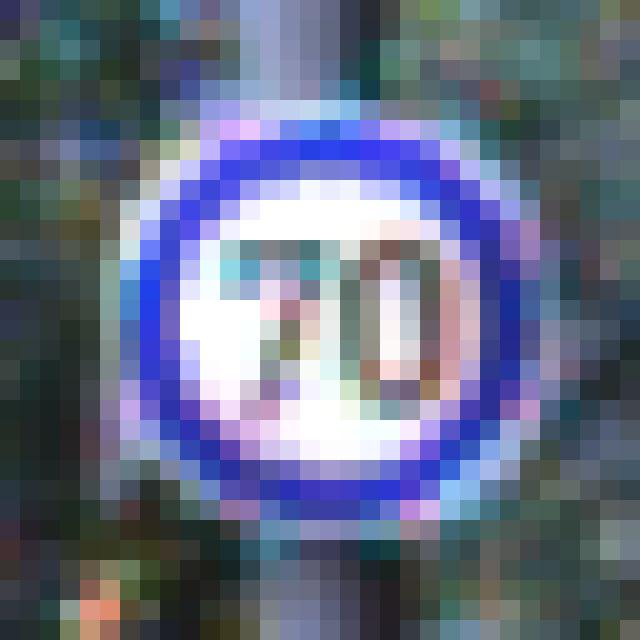SPEED LIMIT 70: (116, 129, 532, 524)
